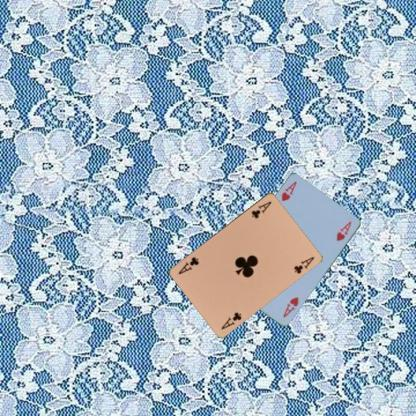Ac: (248, 198, 273, 220), (219, 309, 244, 331)
Ah: (278, 178, 298, 202), (280, 294, 300, 318)
